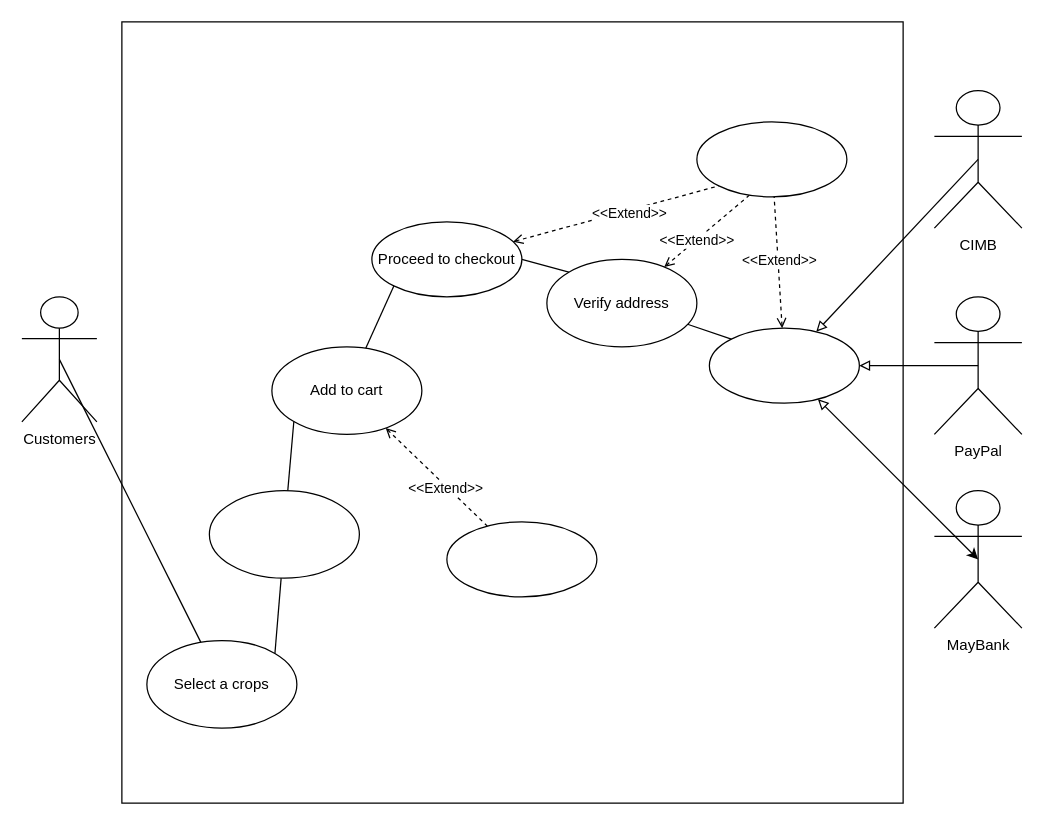
Some shapes in this 1044 by 825 pixel diagram are drawn without their labels. Each missing label, with the centre of its shape:
"cancel transaction" belongs at point 771,159.
"Remove item" belongs at point 521,559.
"Select amount" belongs at point 283,533.
"Select payment method" belongs at point 783,365.
